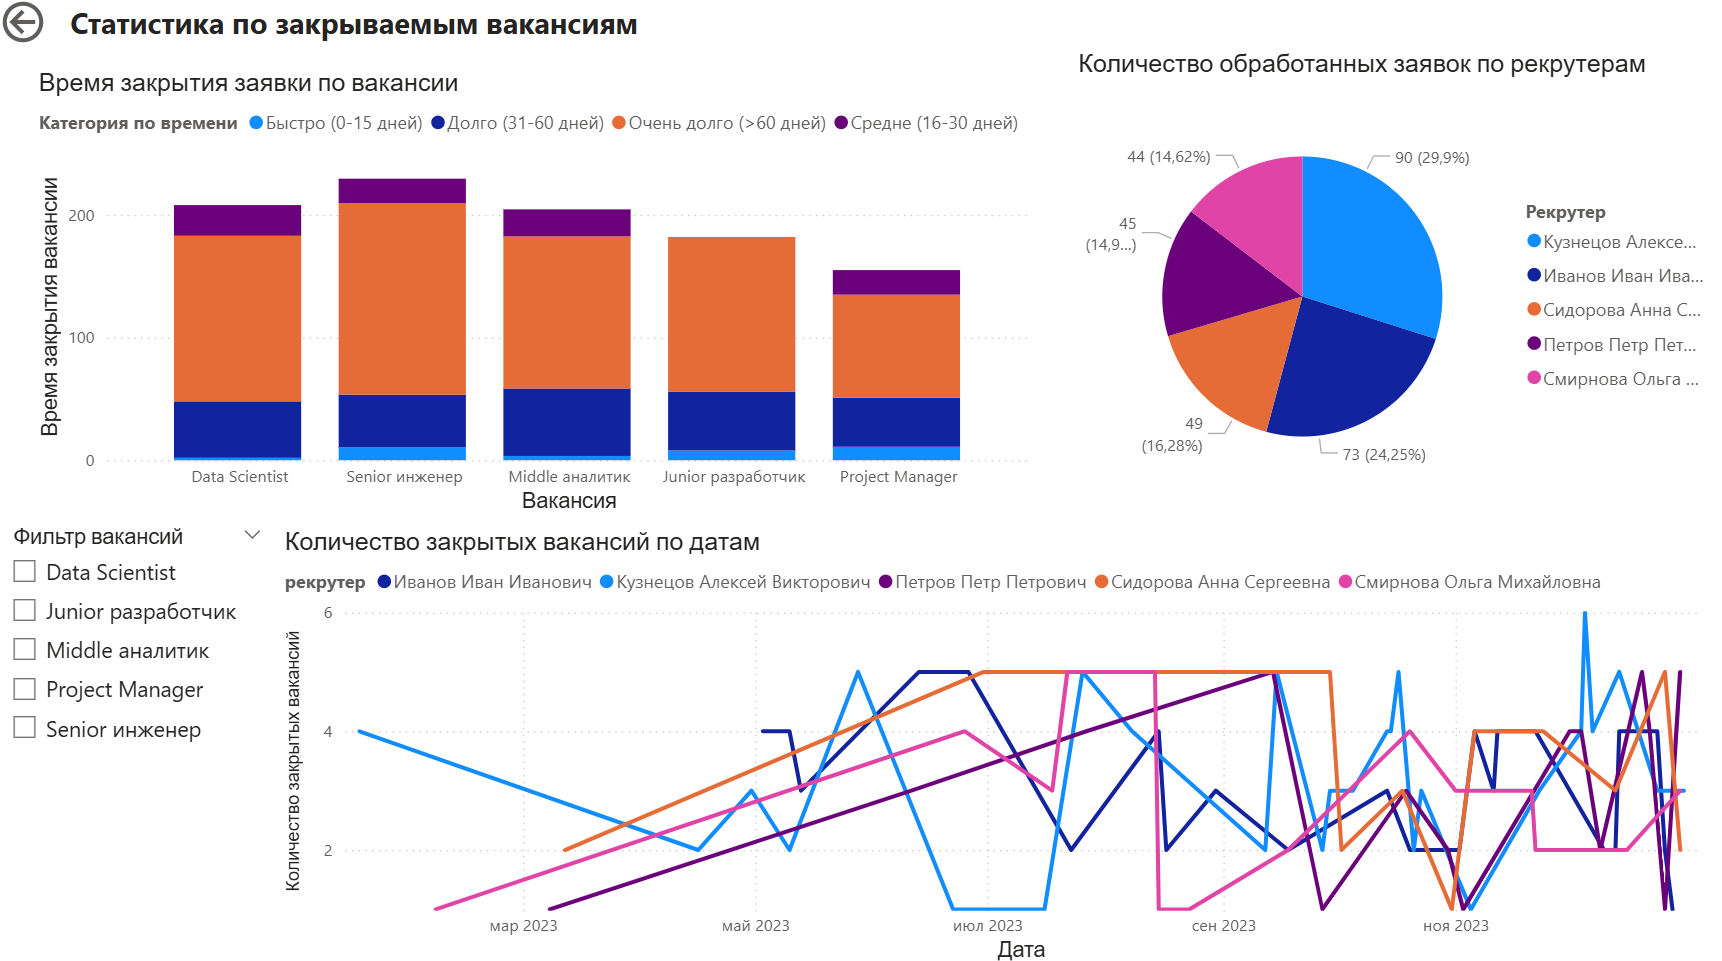

Layout of this report page (visuals, bound fields, positions):
{"tool":"powerbi","page":{"name":"Главная","canvas":[1280,720],"ordinal":0},"visuals":[{"type":"actionButton","box":[0,0,100,40],"z":0},{"type":"columnChart","title":"Время закрытия заявки по вакансии ","fields":{"Y":["vacancies_clean.Median Duration Measure"],"Category":["vacancies_clean.vacancy_name"],"Series":["vacancies_clean.Duration Category"]},"box":[27.1,54.3,744.3,332.9],"z":1000},{"type":"pieChart","title":"Количество обработанных заявок по рекрутерам","fields":{"Category":["vacancies_clean.recruiter_name"],"Y":["vacancies_clean.applicant_id"]},"box":[796.7,40,483.3,346.7],"z":2000},{"type":"slicer","fields":{"Values":["vacancies_clean.vacancy_name"]},"box":[0,386.7,208.9,333.3],"z":3000},{"type":"lineChart","title":"Количество закрытых вакансий по датам ","fields":{"Category":["vacancies_clean.hire_date"],"Series":["vacancies_clean.recruiter_name"],"Y":["vacancies_clean.applicant_id"]},"box":[208.9,394.4,1071.1,325.6],"z":4000},{"type":"textbox","box":[50,0,530,40],"z":5000}]}

Visuals, with their boxes in screenshot pixels (x1, y1, x2, y2), scaled from the page's 1280x720 canvas onto the 1722x961 screenshot:
actionButton: l=0, t=0, r=135, b=53
"Время закрытия заявки по вакансии " columnChart: l=36, t=72, r=1038, b=517
"Количество обработанных заявок по рекрутерам" pieChart: l=1072, t=53, r=1721, b=516
slicer - vacancies_clean.vacancy_name: l=0, t=516, r=281, b=960
"Количество закрытых вакансий по датам " lineChart: l=281, t=526, r=1721, b=960
textbox: l=67, t=0, r=780, b=53
